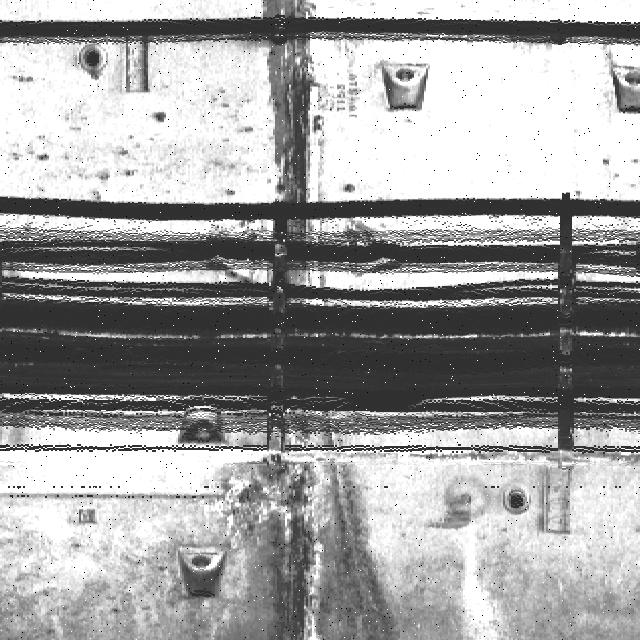leakage: (220, 427, 406, 640), (255, 1, 337, 308)
